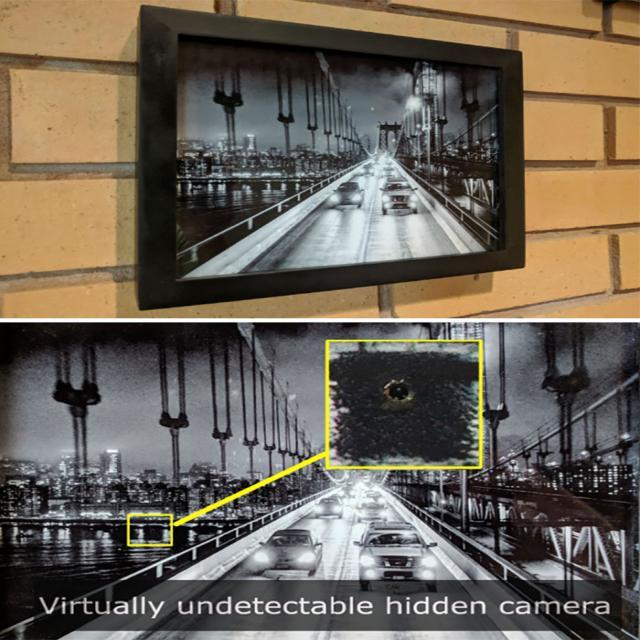hidden camera: (387, 375, 419, 405)
